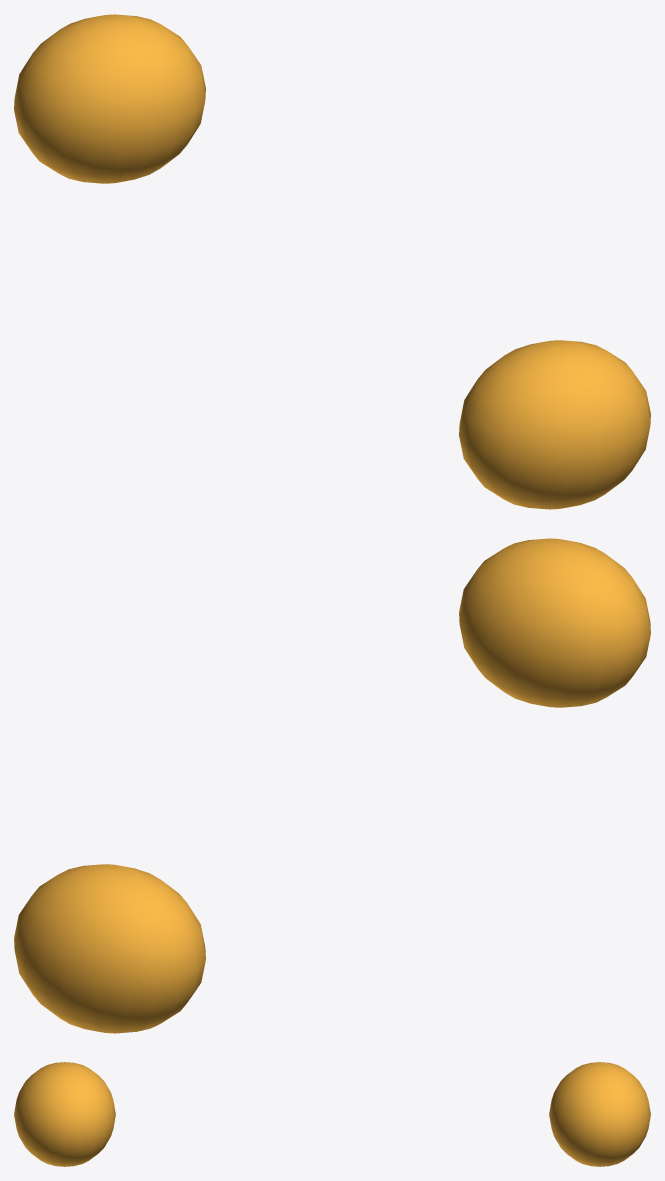
File: indicators_front_hd.glb
3 renders of one model, top to bottom at view 1: azimuth 30°, elevation 25°; view 2: azimuth 150°, elevation 25°; view 3: azimuth 270°, elevation 25°, orthographic. The views are drawn at different scales.
Visible parts, largest first — view 1: S51_HD_indicators_front; view 2: S51_HD_indicators_front; view 3: S51_HD_indicators_front.
Part boxes in pixels (x1,y1,x2,y2): S51_HD_indicators_front: [14, 14, 650, 509]; S51_HD_indicators_front: [14, 538, 650, 1033]; S51_HD_indicators_front: [14, 1062, 650, 1166].
Bounding box in the file's own units: 0.19 × 0.16 × 1.
